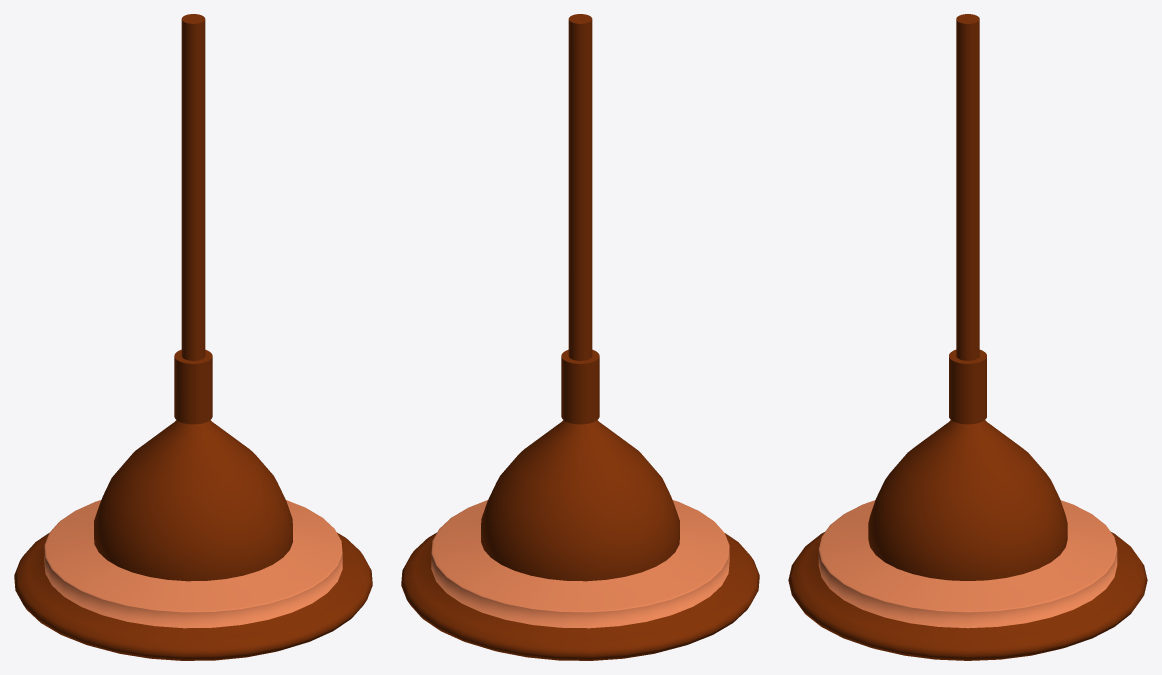
File: fan.gltf
3 views of the same model, side by side, from view 1: azimuth 30°, elevation 25°; view 2: azimuth 150°, elevation 25°; view 3: azimuth 270°, elevation 25° (orthographic).
Parts seen in each view (by area): view 1: midel; view 2: midel; view 3: midel.
Boxes of the visible parts, left/top/right/bottom form: midel: left=14, top=14, right=372, bottom=660; midel: left=401, top=14, right=759, bottom=660; midel: left=788, top=14, right=1147, bottom=660.
Size of what is drawn, in the model's own units: 2.03 by 3.7 by 2.03.
